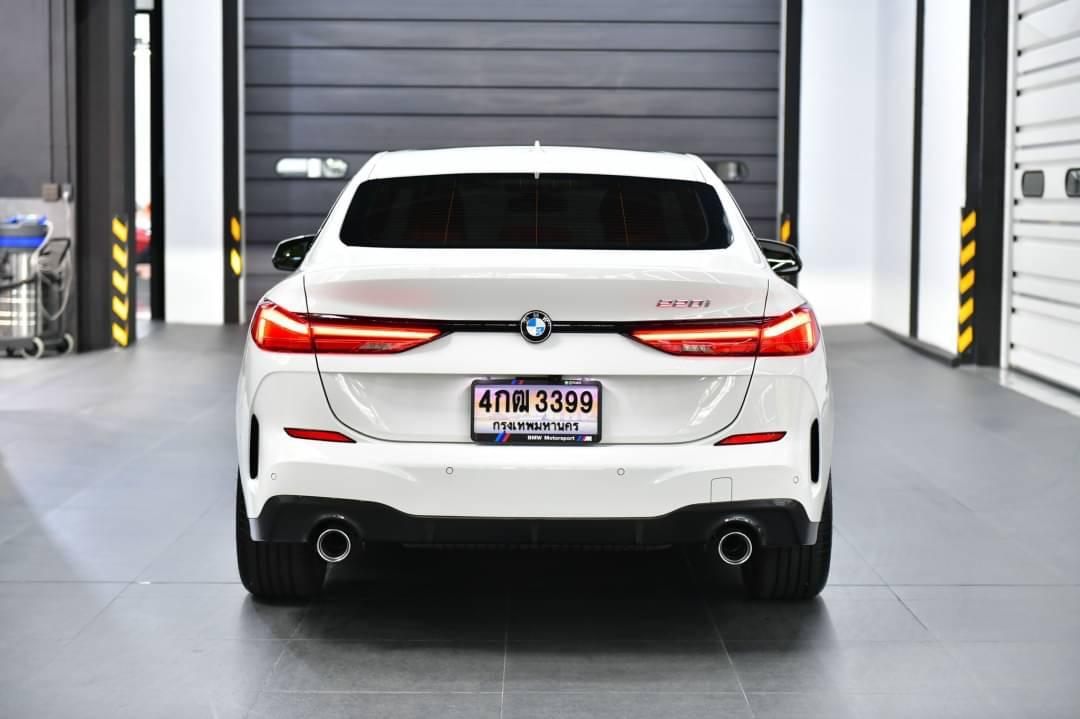license-plate: (469, 374, 603, 447)
